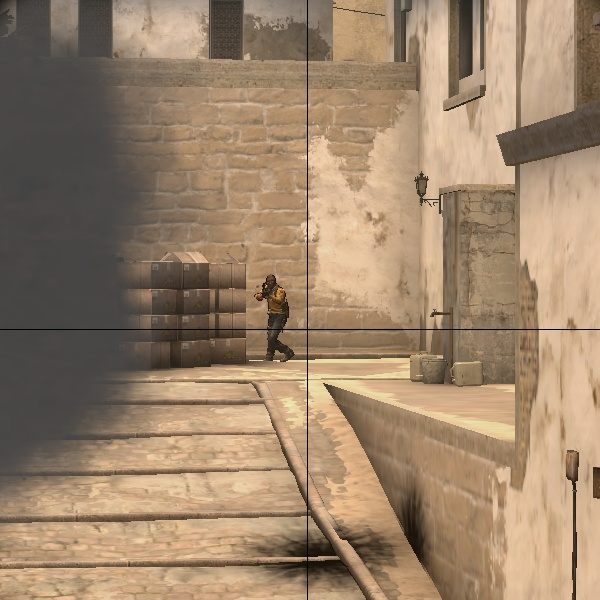t_body: (252, 268, 299, 366)
